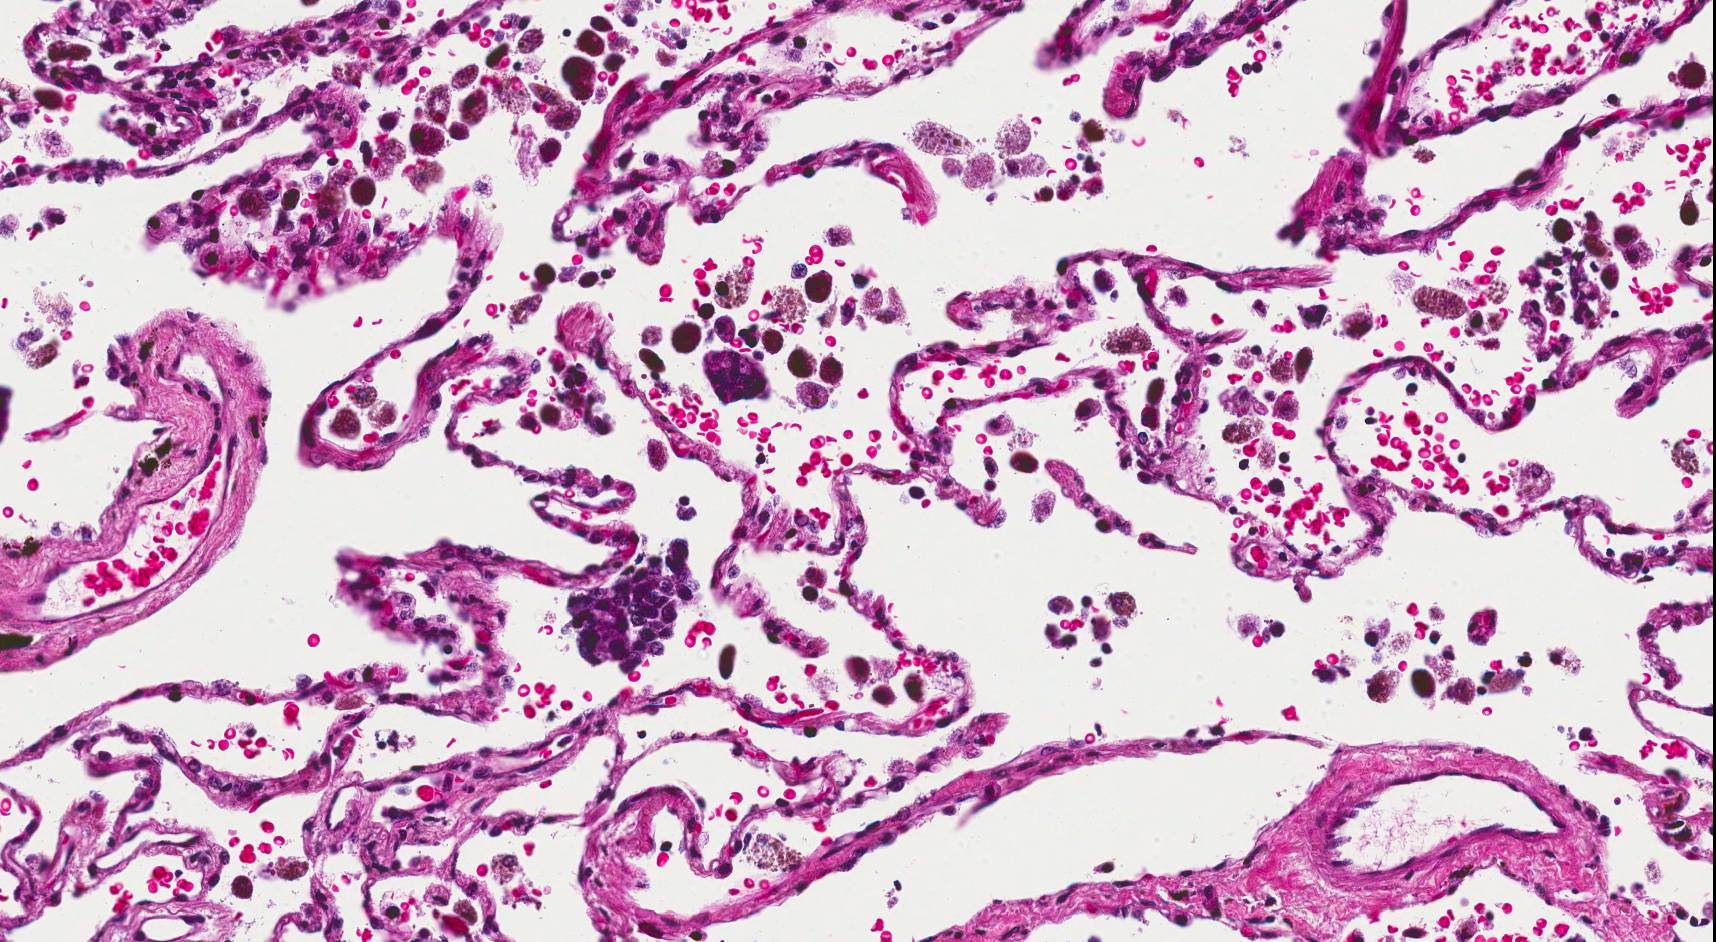stas: (563, 535, 703, 678)
